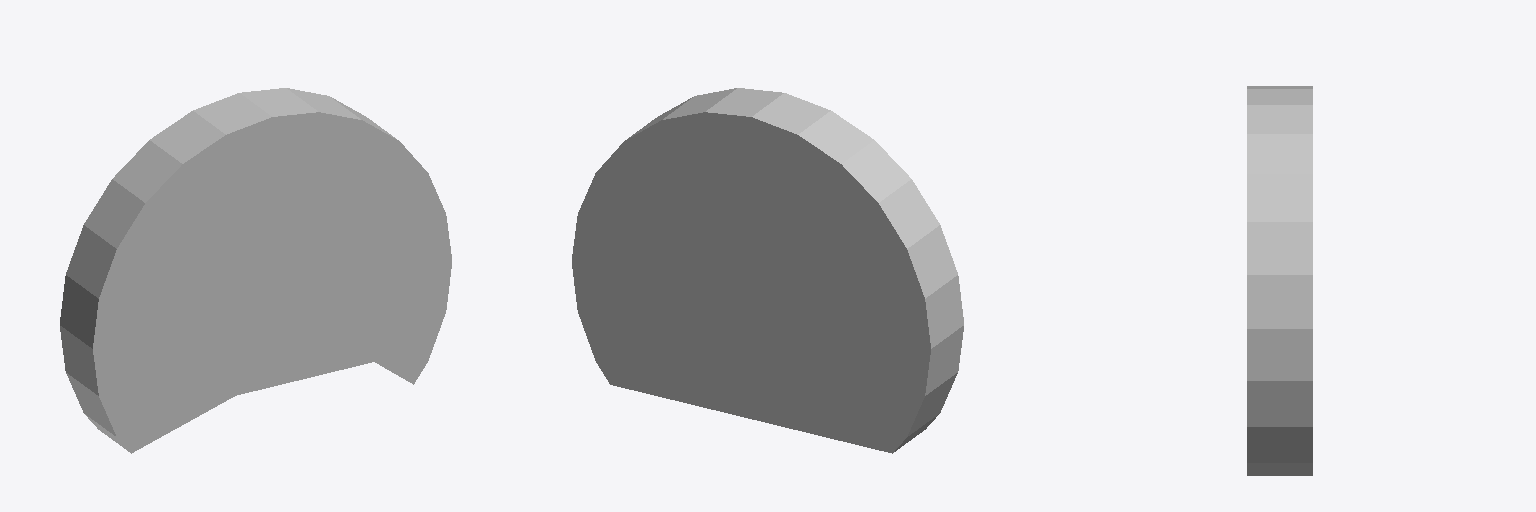
File: RS_Cring15mm_v1.obj
3 views of the same model, side by side, from view 1: azimuth 30°, elevation 25°; view 2: azimuth 150°, elevation 25°; view 3: azimuth 270°, elevation 25° (orthographic).
Visible parts, largest first — view 1: Mesh1 _____97_1 Model; view 2: Mesh1 _____97_1 Model; view 3: Mesh1 _____97_1 Model.
Boxes of the visible parts, <box> form: Mesh1 _____97_1 Model: <box>60,88,451,453</box>; Mesh1 _____97_1 Model: <box>572,88,963,453</box>; Mesh1 _____97_1 Model: <box>1247,86,1312,475</box>.
Bounding box in the file's own units: 9.38 × 7.53 × 1.5.